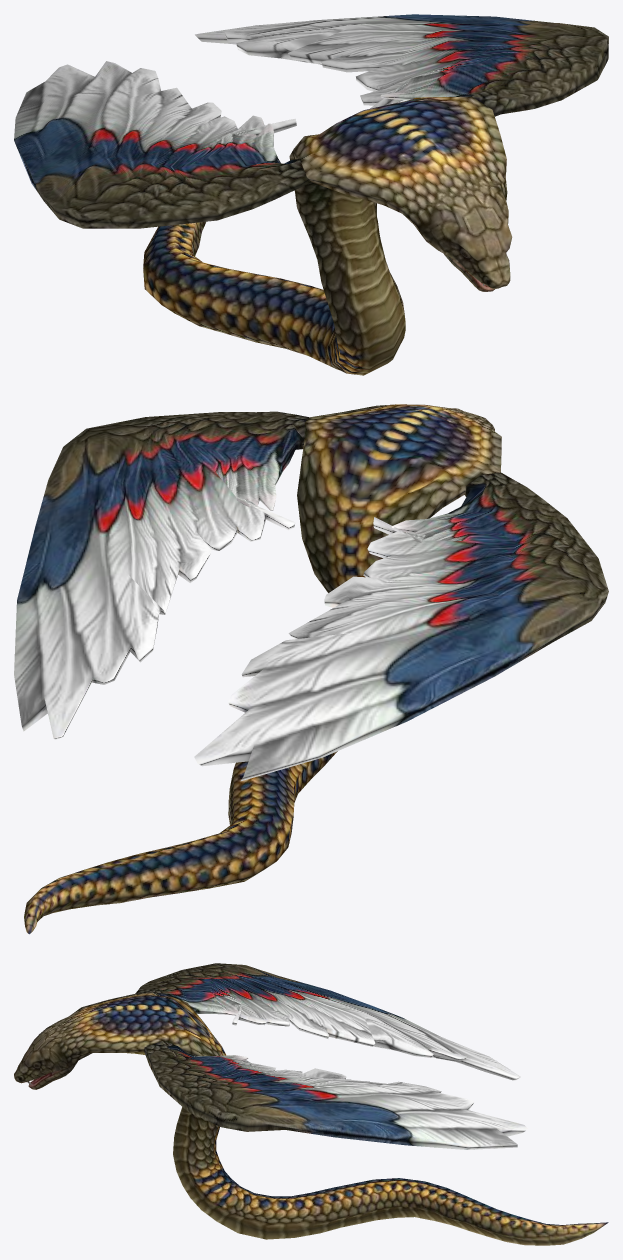
File: 44-wadjet.glb
3 views of the same model, one above another, from view 1: azimuth 30°, elevation 25°; view 2: azimuth 150°, elevation 25°; view 3: azimuth 270°, elevation 25° (orthographic). The views are drawn at different scales.
Bounding box in the file's own units: 2.46 × 1.38 × 3.39.
Materials: 1 (1 with a texture image).
